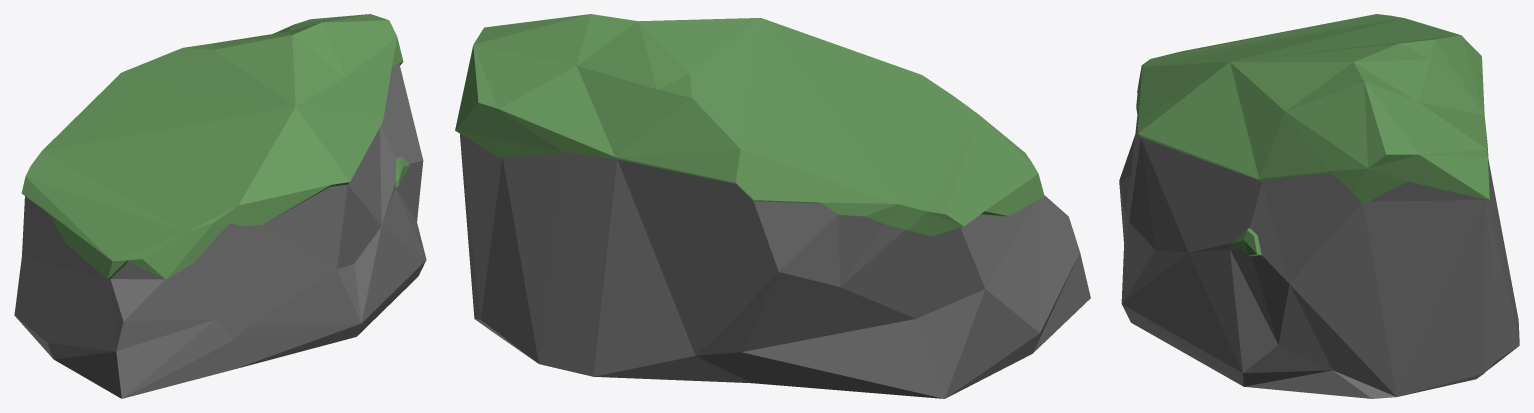
Rendered from Mossy stone 2.fbx.
3 renders of one model, left to right at view 1: azimuth 30°, elevation 25°; view 2: azimuth 150°, elevation 25°; view 3: azimuth 270°, elevation 25°, orthographic. The views are drawn at different scales.
Parts seen in each view (by area): view 1: Mossy stone 2; view 2: Mossy stone 2; view 3: Mossy stone 2.
Boxes of the visible parts, x1,y1,x2,y2 form: Mossy stone 2: (14, 14, 426, 398); Mossy stone 2: (455, 14, 1090, 398); Mossy stone 2: (1119, 14, 1519, 398).
Size of the model in its own units: 3.7 by 2.05 by 2.68.
